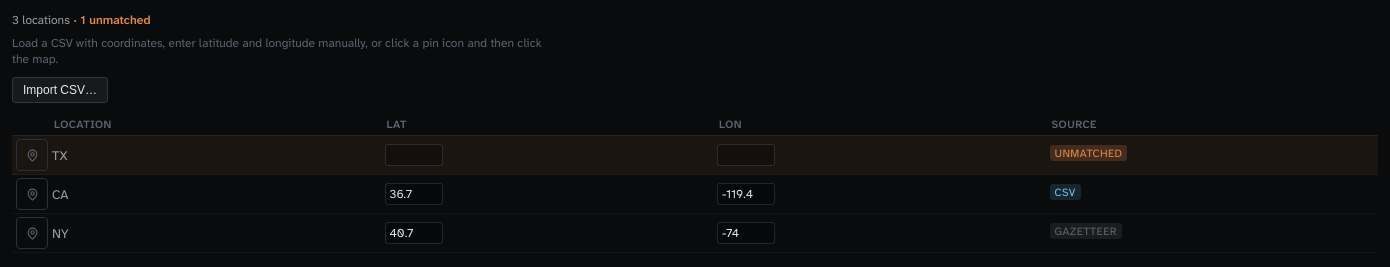
LocationsPanel › explains an out-of-range latitude and retains it for correction
Replace the text in the number field named "Latitude for NY" with "999" at (414, 233), box [384, 222, 442, 244]
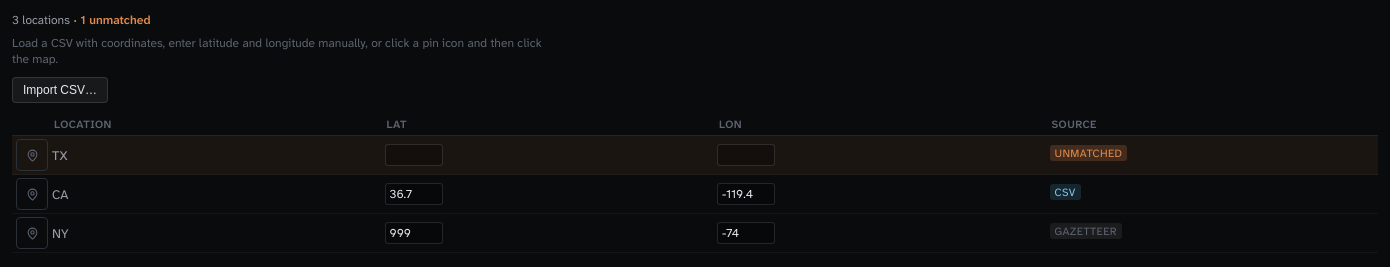
Leave the number field named "Latitude for NY", box [384, 222, 442, 244]
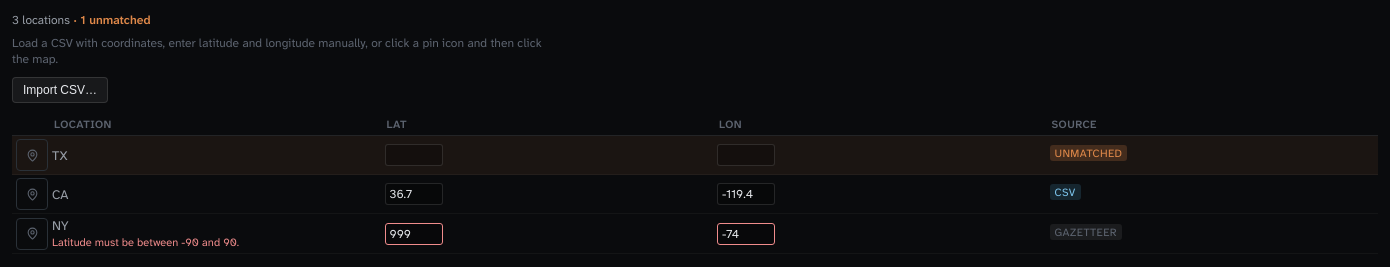
Expected: the message reads "Latitude must be between -90 and 90.", [52, 235, 239, 249]
